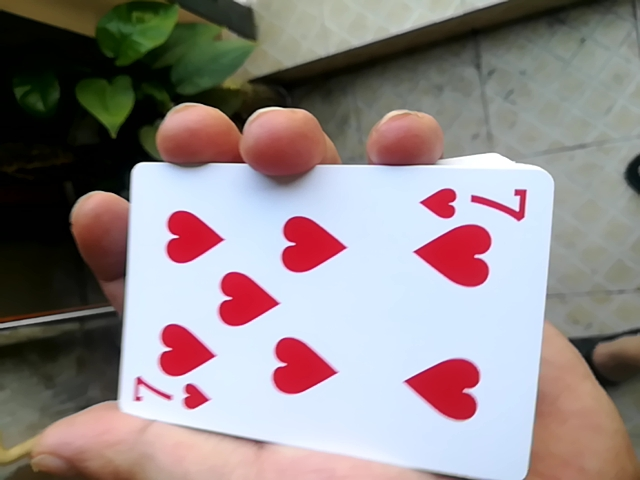hx 7: (107, 148, 540, 472)
